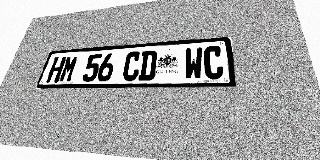5: (82, 54, 102, 82)
6: (96, 53, 116, 82)
C: (203, 46, 224, 79), (121, 51, 142, 81)
D: (138, 50, 158, 81)
H: (46, 56, 67, 83)
M: (58, 55, 79, 83)
W: (184, 47, 203, 80)
